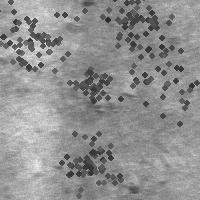rolled-in_scale: (104, 21, 200, 137), (0, 0, 88, 98), (81, 0, 187, 70), (54, 126, 126, 198), (57, 70, 138, 122), (61, 56, 115, 110), (119, 153, 179, 194)
